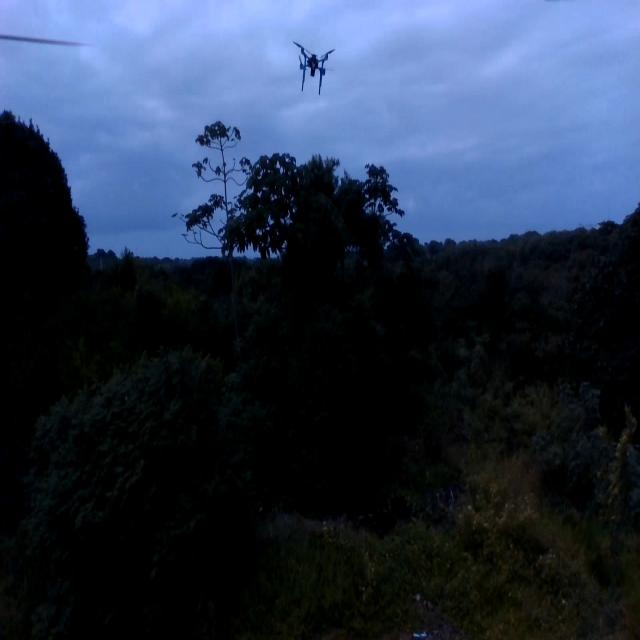-uav-: (289, 31, 337, 107)
